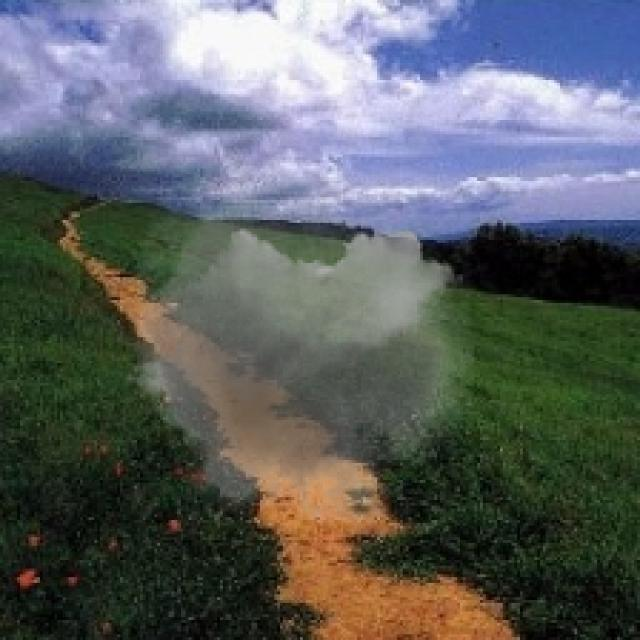Smoke: (114, 148, 477, 546)
